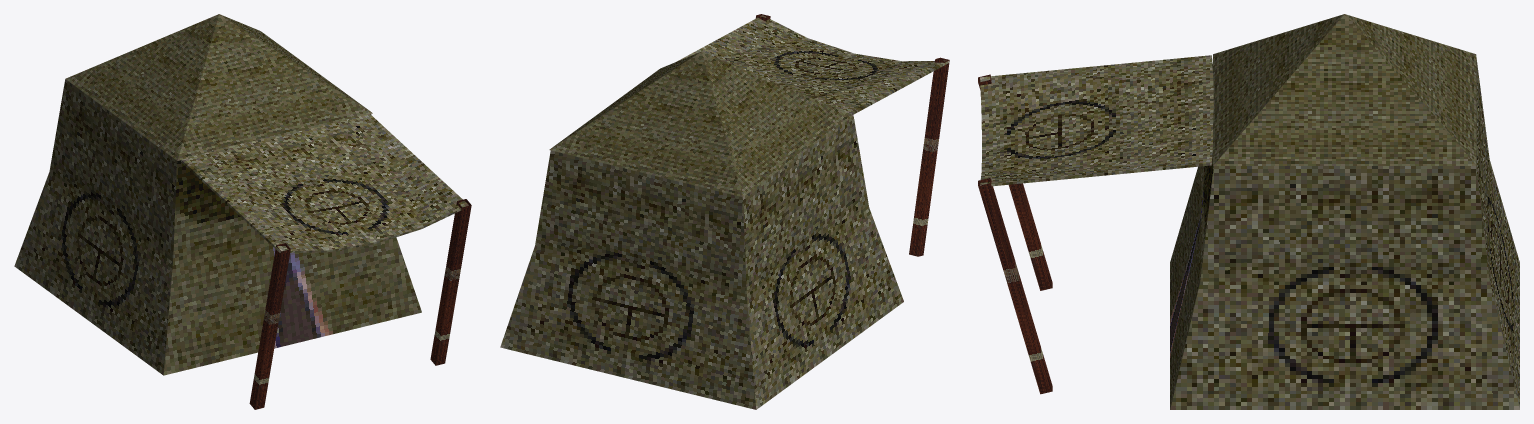
File: BTent.fbx
The picture shows the model from 3 angles, left to right: view 1: azimuth 30°, elevation 25°; view 2: azimuth 150°, elevation 25°; view 3: azimuth 270°, elevation 25°; orthographic projection. The views are drawn at different scales.
Visible parts, largest first — view 1: BTENT; view 2: BTENT; view 3: BTENT.
Part boxes in pixels (box(x1,y1,x2,y2)): BTENT: box(14, 14, 471, 409); BTENT: box(500, 14, 949, 409); BTENT: box(978, 14, 1519, 409).
Bounding box in the file's own units: 17.5 × 17.97 × 27.11.
